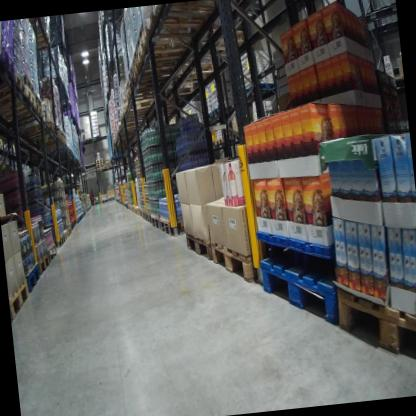pallet: (256, 235, 347, 354), (333, 269, 416, 388), (211, 229, 274, 287), (143, 0, 221, 40), (135, 26, 198, 67), (194, 25, 249, 59), (129, 49, 178, 83), (127, 64, 180, 93), (0, 100, 45, 130), (0, 83, 37, 118), (181, 227, 215, 265), (168, 61, 216, 86), (0, 72, 28, 113), (8, 276, 31, 322), (121, 80, 169, 102), (159, 209, 196, 237), (118, 95, 158, 117), (20, 120, 57, 143), (20, 260, 43, 296), (240, 78, 276, 100), (33, 130, 62, 148), (169, 83, 199, 100), (40, 134, 67, 151), (32, 32, 52, 54), (35, 252, 51, 277), (42, 243, 59, 265), (22, 73, 35, 98), (224, 130, 241, 143), (51, 233, 66, 247), (30, 91, 43, 107), (152, 211, 161, 233), (210, 105, 223, 118), (214, 135, 224, 147), (142, 206, 148, 225), (146, 210, 154, 224), (64, 226, 73, 236), (62, 229, 69, 240), (208, 139, 216, 148), (106, 195, 116, 201), (206, 112, 212, 120), (101, 197, 108, 203)
